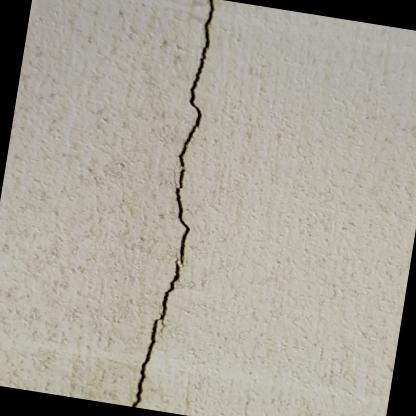crack: (128, 0, 213, 407)
